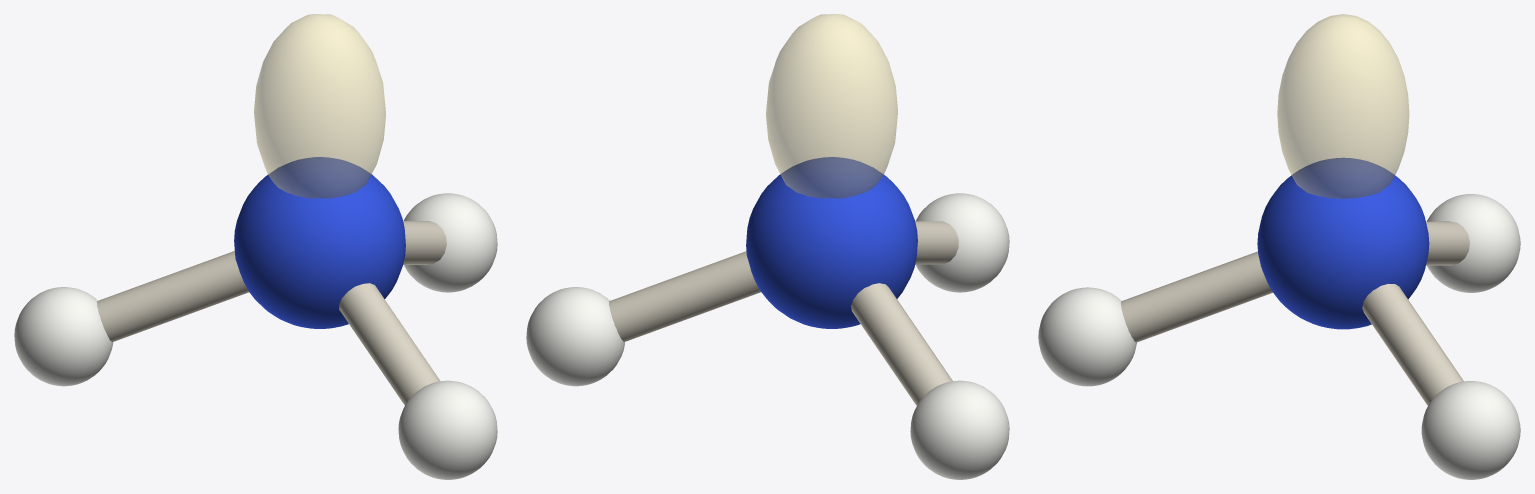
The picture shows the model from 3 angles, left to right: view 1: azimuth 30°, elevation 25°; view 2: azimuth 150°, elevation 25°; view 3: azimuth 270°, elevation 25°; orthographic projection.
Visible parts, largest first — view 1: N_0, lone_pair, H_1, H_2, bond_1, H_3, bond_0, bond_2; view 2: N_0, lone_pair, H_2, H_3, bond_2, H_1, bond_1, bond_0; view 3: N_0, lone_pair, H_3, H_1, bond_0, H_2, bond_2, bond_1.
Boxes of the visible parts, box(x1,y1,x2,y2) form: N_0: box(234, 157, 405, 328); lone_pair: box(254, 14, 385, 198); H_1: box(398, 380, 497, 479); H_2: box(14, 287, 113, 386); bond_1: box(97, 251, 248, 342); H_3: box(403, 193, 497, 292); bond_0: box(339, 283, 440, 405); bond_2: box(403, 221, 446, 264); N_0: box(746, 157, 917, 328); lone_pair: box(766, 14, 897, 198); H_2: box(910, 380, 1009, 479); H_3: box(526, 287, 624, 386); bond_2: box(609, 251, 760, 341); H_1: box(916, 193, 1009, 292); bond_1: box(851, 283, 952, 405); bond_0: box(915, 221, 958, 264); N_0: box(1257, 157, 1429, 329); lone_pair: box(1277, 14, 1409, 198); H_3: box(1421, 381, 1520, 479); H_1: box(1038, 287, 1136, 386); bond_0: box(1120, 251, 1272, 342); H_2: box(1427, 194, 1520, 292); bond_2: box(1362, 284, 1463, 405); bond_1: box(1426, 221, 1469, 265).
Bounding box in the file's own units: 0.4916 × 0.3645 × 0.4378.
